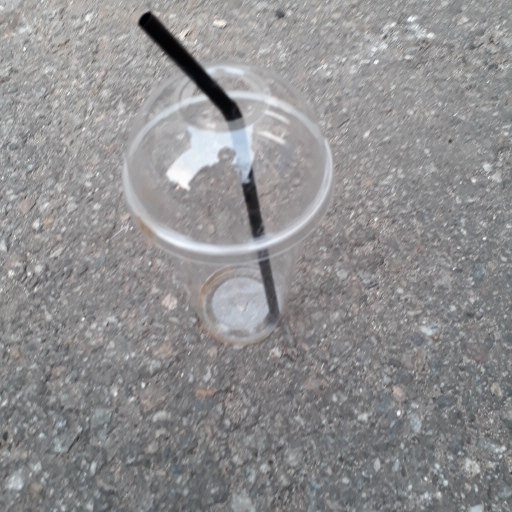Plastic_2: (128, 11, 331, 349)
